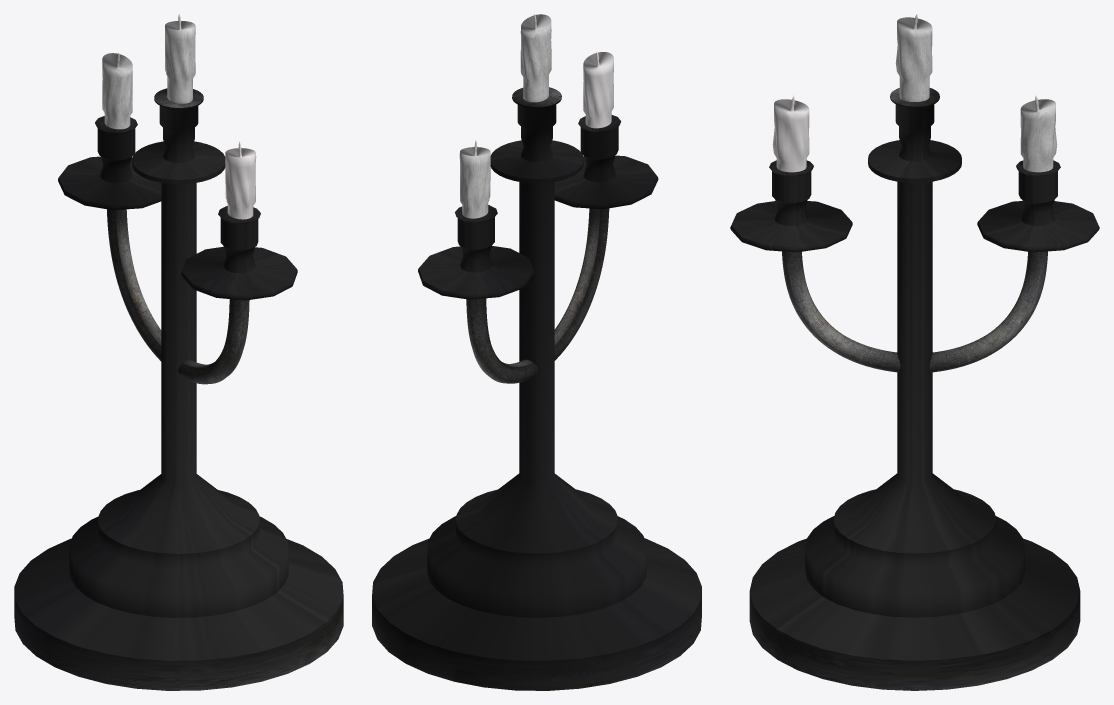
Rendered from lilin.fbx.
3 renders of one model, left to right at view 1: azimuth 30°, elevation 25°; view 2: azimuth 150°, elevation 25°; view 3: azimuth 270°, elevation 25°, orthographic.
Parts seen in each view (by area): view 1: Cylinder, NurbsPath, Cylinder.003, Cylinder.002, Cylinder.001; view 2: Cylinder, NurbsPath, Cylinder.003, Cylinder.001, Cylinder.002; view 3: Cylinder, NurbsPath, Cylinder.003, Cylinder.001, Cylinder.002.
Boxes of the visible parts, x1=… form: Cylinder: x1=14, y1=88, x2=343, y2=690; NurbsPath: x1=58, y1=116, x2=297, y2=384; Cylinder.003: x1=165, y1=14, x2=195, y2=103; Cylinder.002: x1=102, y1=53, x2=132, y2=129; Cylinder.001: x1=225, y1=141, x2=256, y2=219; Cylinder: x1=372, y1=87, x2=701, y2=690; NurbsPath: x1=418, y1=115, x2=658, y2=383; Cylinder.003: x1=520, y1=14, x2=551, y2=102; Cylinder.001: x1=583, y1=51, x2=613, y2=128; Cylinder.002: x1=459, y1=140, x2=490, y2=218; Cylinder: x1=749, y1=88, x2=1080, y2=690; NurbsPath: x1=730, y1=160, x2=1099, y2=372; Cylinder.003: x1=895, y1=14, x2=932, y2=101; Cylinder.001: x1=772, y1=96, x2=809, y2=172; Cylinder.002: x1=1020, y1=96, x2=1057, y2=172.
Size of the model in its own units: 103 by 208 by 115.
3 materials, 2 textured.
